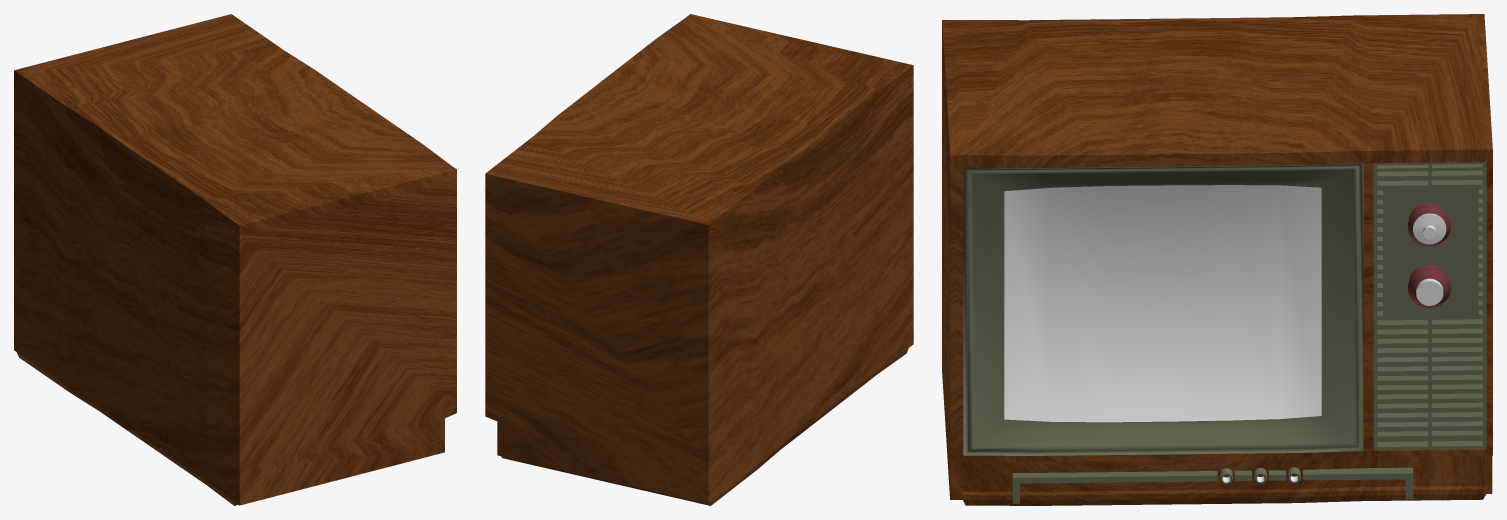
Rendered from comp.gltf.
The picture shows the model from 3 angles, left to right: view 1: azimuth 30°, elevation 25°; view 2: azimuth 150°, elevation 25°; view 3: azimuth 270°, elevation 25°; orthographic projection. The views are drawn at different scales.
Parts seen in each view (by area): view 1: Tlevisao.005; view 2: Tlevisao.005; view 3: Tlevisao.005.
Part boxes in pixels (<box>): Tlevisao.005: <box>14,14,456,505</box>; Tlevisao.005: <box>485,14,913,505</box>; Tlevisao.005: <box>942,14,1492,505</box>.
Size of the model in its own units: 1.98 by 2.21 by 3.08.
Materials: 5 (1 with a texture image).
